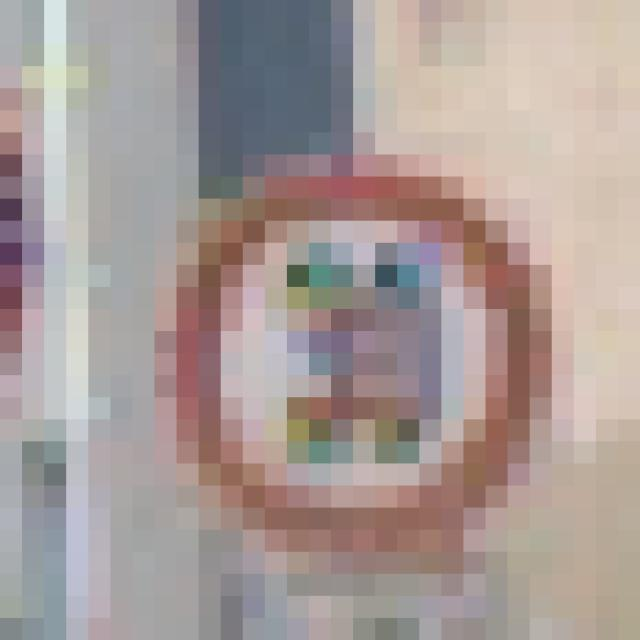Speed Limit -30-: (121, 121, 496, 518)
